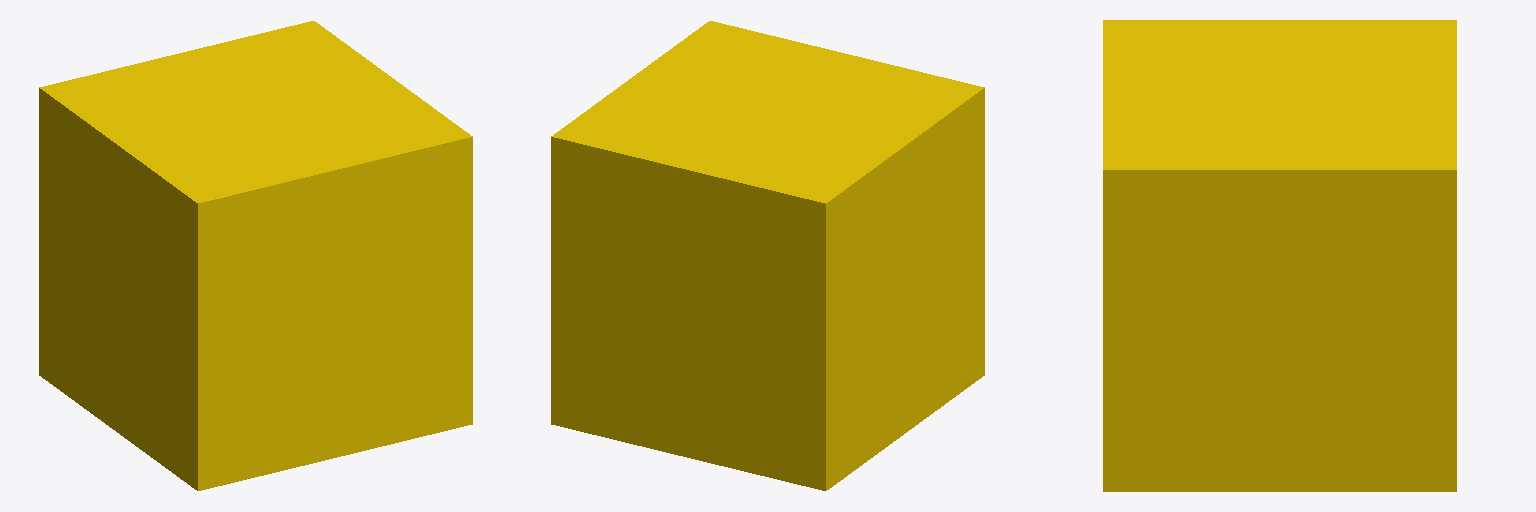
The robot description file, URDF, robot "garbage":
<?xml version="1.0"?>
<!--
  garbage.urdf
  A small yellow cube representing a piece of dropped garbage.
  Size: 0.10 × 0.10 × 0.10 m  |  Mass: 0.05 kg
  Used by garbage_spawner.py — spawned dynamically at runtime.
-->
<robot name="garbage">

  <link name="base_link">

    <inertial>
      <mass value="0.05"/>
      <!-- Inertia of a solid cube: I = (1/6) * m * a^2, a=0.10 -->
      <inertia ixx="0.0000833" ixy="0" ixz="0"
               iyy="0.0000833" iyz="0"
               izz="0.0000833"/>
    </inertial>

    <collision>
      <geometry>
        <box size="0.10 0.10 0.10"/>
      </geometry>
    </collision>

    <visual>
      <geometry>
        <box size="0.10 0.10 0.10"/>
      </geometry>
      <material name="garbage_yellow">
        <color rgba="0.95 0.82 0.05 1.0"/>
      </material>
    </visual>

  </link>

  <!-- Gazebo-specific material for correct rendering in simulation -->
  <gazebo reference="base_link">
    <material>Gazebo/Yellow</material>
    <mu1>0.6</mu1>
    <mu2>0.6</mu2>
    <kp>1e6</kp>
    <kd>1.0</kd>
    <selfCollide>false</selfCollide>
  </gazebo>

</robot>

--- What the picture shows (computed from the rendered views, not written in the file) ---
3 views of the same robot in one strip: view 1: azimuth 30°, elevation 25°; view 2: azimuth 150°, elevation 25°; view 3: azimuth 270°, elevation 25° (orthographic).
Robot: garbage — 1 links, 0 joints (none); root link base_link; default pose: all joints at 0.
Visible links, largest first — view 1: base_link; view 2: base_link; view 3: base_link.
Boxes of the visible links, box(x1,y1,x2,y2) form: base_link: box(39, 21, 472, 490); base_link: box(551, 21, 984, 490); base_link: box(1103, 20, 1456, 491).
Size in the robot's own frame: 0.1 by 0.1 by 0.1 metres.
Geometry: primitives only (box / cylinder / sphere), no mesh files.
